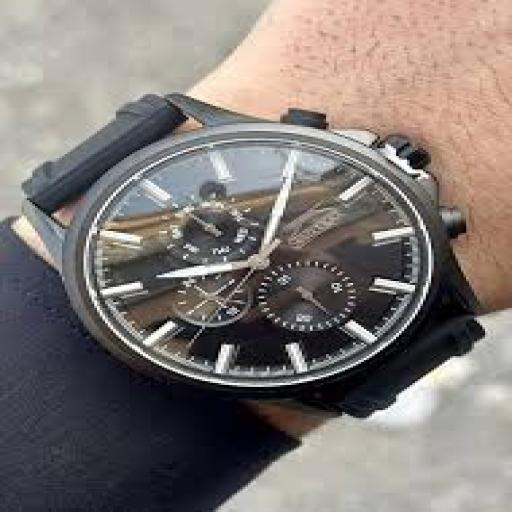KolSaati: (0, 82, 500, 438)
